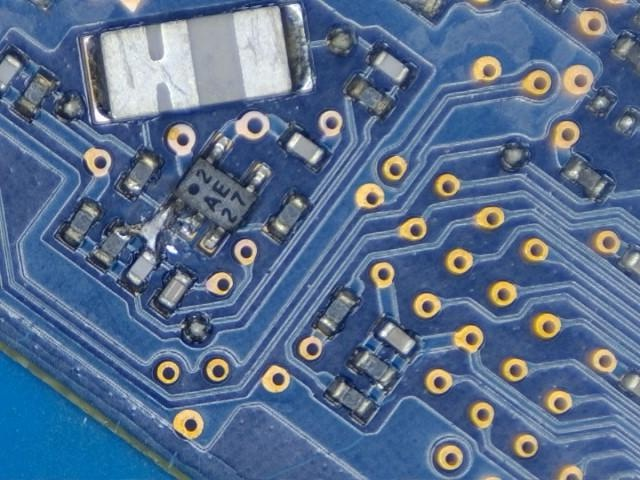pcb_defect: (114, 204, 198, 265)
